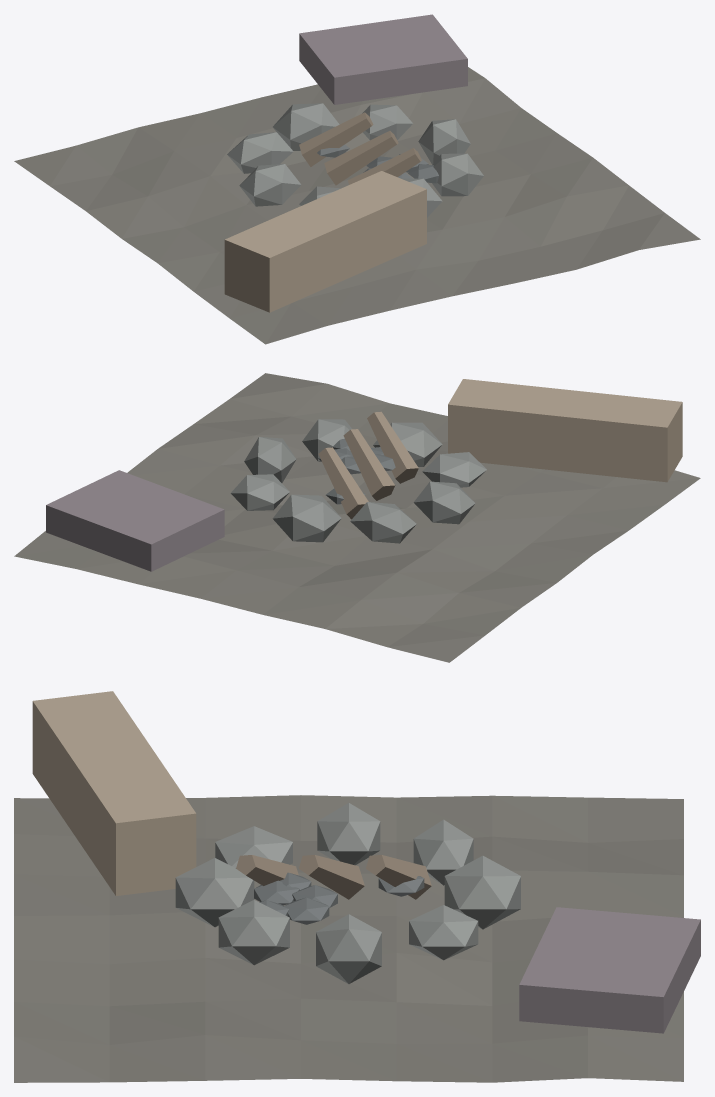
Rendered from abandoned_watchfire.glb.
3 views of the same model, one above another, from view 1: azimuth 30°, elevation 25°; view 2: azimuth 150°, elevation 25°; view 3: azimuth 270°, elevation 25° (orthographic). The views are drawn at different scales.
Parts seen in each view (by area): view 1: material_00, material_04, material_05, material_01, material_02, material_03; view 2: material_00, material_04, material_01, material_05, material_02, material_03; view 3: material_00, material_01, material_04, material_05, material_02, material_03.
Boxes of the visible parts, <box> form: material_00: <box>14,67,700,344</box>; material_04: <box>224,171,426,312</box>; material_05: <box>299,14,467,104</box>; material_01: <box>227,103,483,217</box>; material_02: <box>299,112,422,185</box>; material_03: <box>317,144,438,183</box>; material_00: <box>14,373,700,662</box>; material_04: <box>448,379,682,482</box>; material_01: <box>230,419,486,543</box>; material_05: <box>46,470,224,571</box>; material_02: <box>318,411,418,519</box>; material_03: <box>318,438,395,504</box>; material_00: <box>14,795,683,1082</box>; material_01: <box>175,803,520,983</box>; material_04: <box>32,691,196,895</box>; material_05: <box>519,907,700,1033</box>; material_02: <box>236,855,431,899</box>; material_03: <box>254,872,424,924</box>.
Bounding box in the file's own units: 2.02 × 0.3642 × 2.05.
